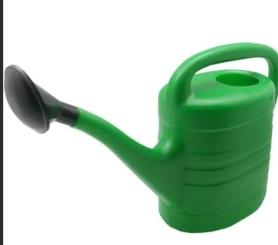ARROSOIR: (1, 2, 278, 245)
